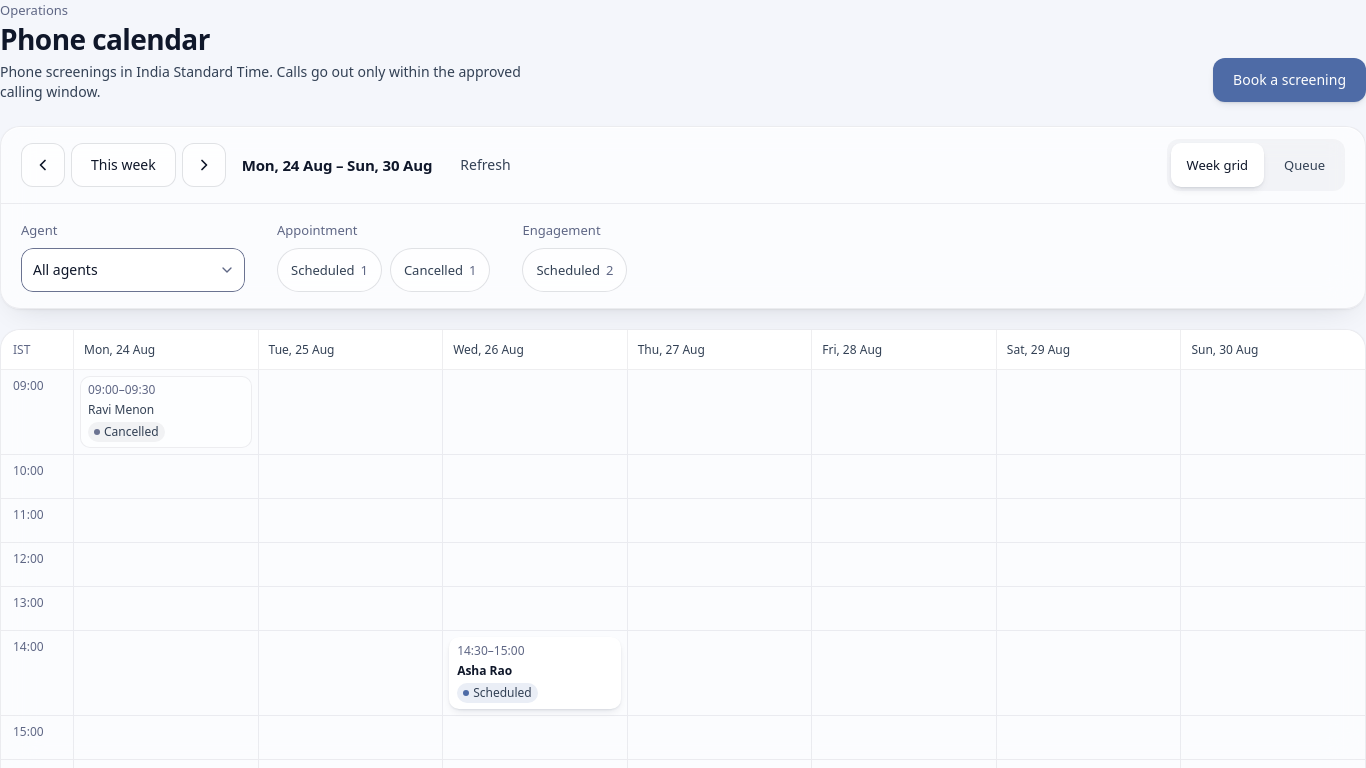
it: the detail opens where the chip is › renders the detail as a row directly under the band that holds the chip
Click the button with aria-label "ATS-4417" at (535, 673), box [449, 637, 621, 709]
(page scrolled)
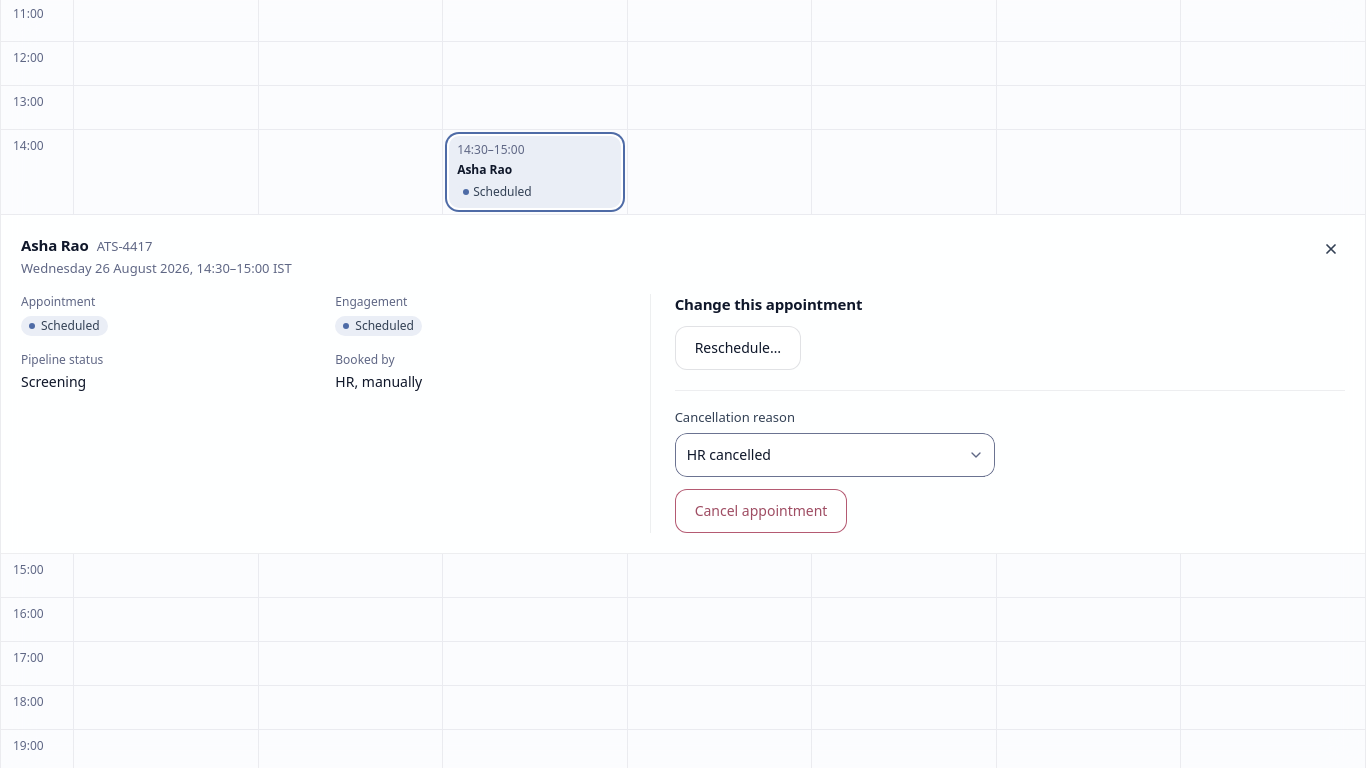
Check: the row named "Selected appointment" is shown, box [1, 215, 1365, 554]
